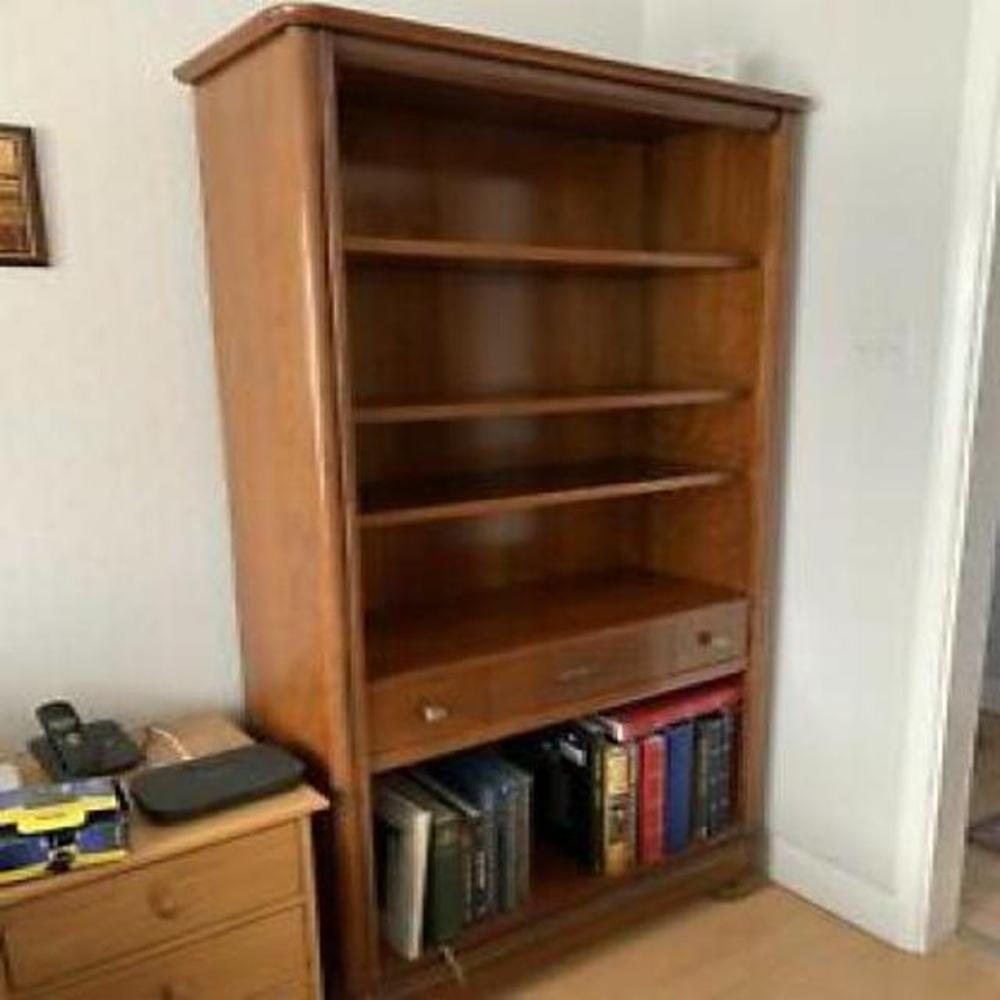lamp: (173, 1, 822, 997)
